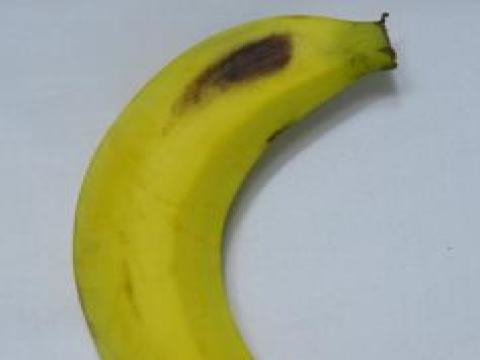freshripe: (57, 0, 407, 359)
